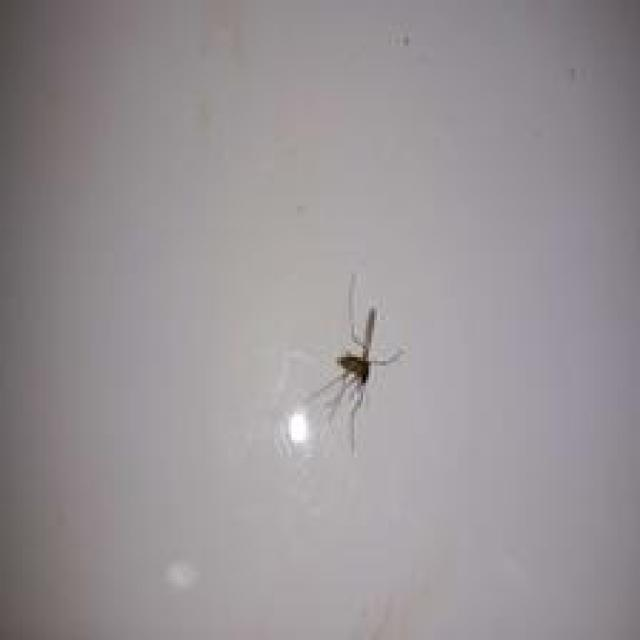Culex: (294, 272, 406, 454)
